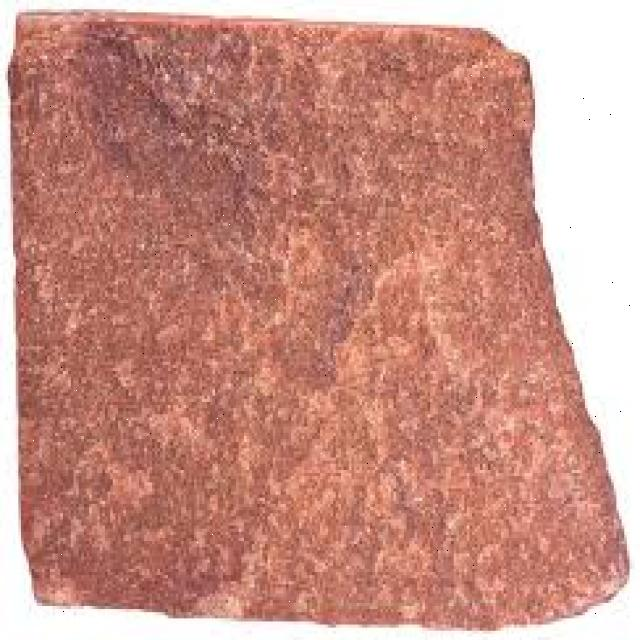Metamorphic: (3, 3, 627, 628)
